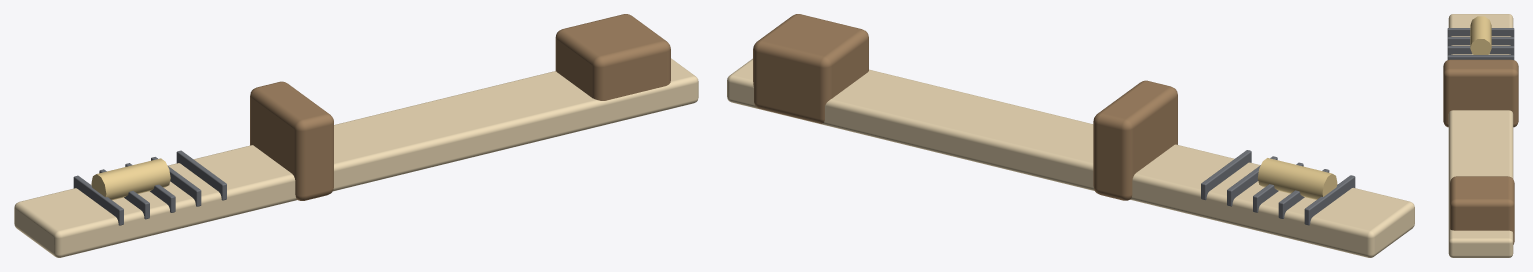
Rendered from marquetry-and-veneer-inlay-workshop-strip-cutting-gaug-c556e767__39098.glb.
3 views of the same model, side by side, from view 1: azimuth 30°, elevation 25°; view 2: azimuth 150°, elevation 25°; view 3: azimuth 270°, elevation 25° (orthographic). The views are drawn at different scales.
Visible parts, largest first — view 1: strip-cutting-gauge; view 2: strip-cutting-gauge; view 3: strip-cutting-gauge.
Boxes of the visible parts, <box> form: strip-cutting-gauge: <box>14,14,698,257</box>; strip-cutting-gauge: <box>727,14,1414,257</box>; strip-cutting-gauge: <box>1443,14,1518,257</box>.
Size of the model in its own units: 0.5 by 0.06 by 0.07.
